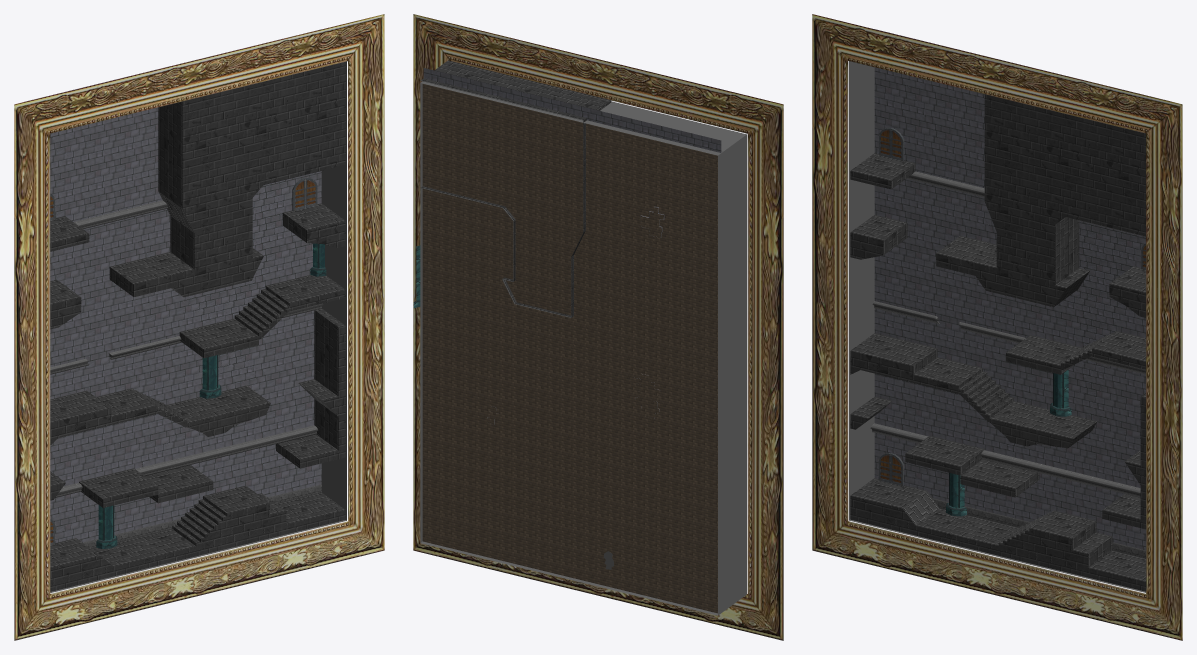
File: Third_Room.FBX
3 views of the same model, side by side, from view 1: azimuth 30°, elevation 25°; view 2: azimuth 150°, elevation 25°; view 3: azimuth 330°, elevation 25° (orthographic).
Visible parts, largest first — view 1: Third_Room, Plane001, polySurface72, polySurface438, polySurface460, polySurface439, polySurface440, polySurface446, polySurface445; view 2: Plane003, Third_Room, polySurface72, Plane001; view 3: Third_Room, Plane001, polySurface72, polySurface438, polySurface439, polySurface460, polySurface440, polySurface445.
Part boxes in pixels (<box>): Third_Room: <box>14,14,384,640</box>; Plane001: <box>24,29,321,542</box>; polySurface72: <box>50,61,346,592</box>; polySurface438: <box>55,425,318,497</box>; polySurface460: <box>83,484,321,548</box>; polySurface439: <box>50,303,323,374</box>; polySurface440: <box>73,170,323,228</box>; polySurface446: <box>98,505,114,540</box>; polySurface445: <box>202,355,218,389</box>; Plane003: <box>422,84,717,613</box>; Third_Room: <box>413,14,783,640</box>; polySurface72: <box>420,81,746,615</box>; Plane001: <box>423,68,721,424</box>; Third_Room: <box>812,14,1182,640</box>; Plane001: <box>874,29,1169,550</box>; polySurface72: <box>849,61,1145,592</box>; polySurface438: <box>870,423,1140,497</box>; polySurface439: <box>872,301,1145,374</box>; polySurface460: <box>933,498,1145,558</box>; polySurface440: <box>907,171,1145,236</box>; polySurface445: <box>1053,369,1068,408</box>.
Size of the model in its own units: 61.57 by 85.16 by 8.6.
